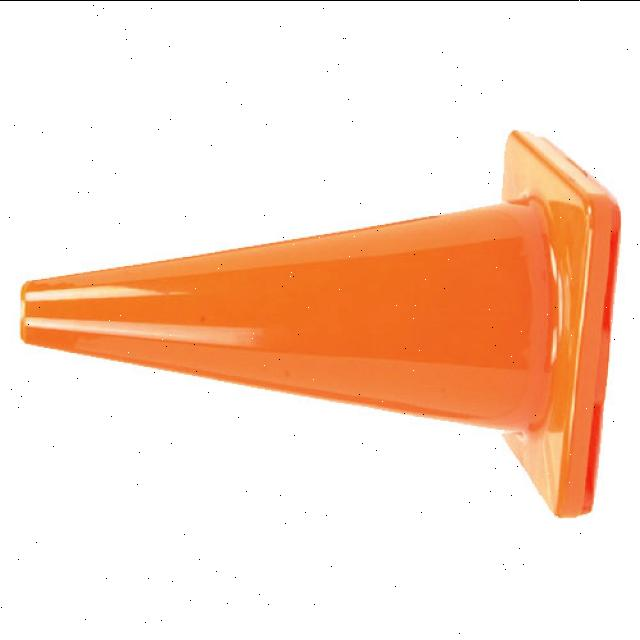traffic cone: (14, 119, 625, 530)
